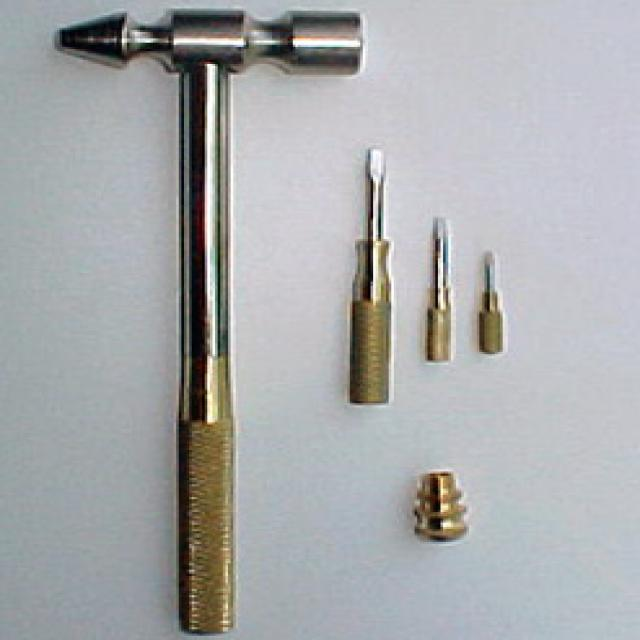hammer: (46, 0, 375, 640)
screwdriver: (339, 136, 403, 416), (415, 204, 465, 376), (473, 242, 512, 366)
